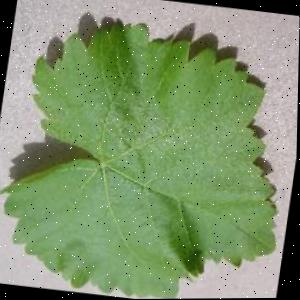Folha: (0, 2, 300, 300)
